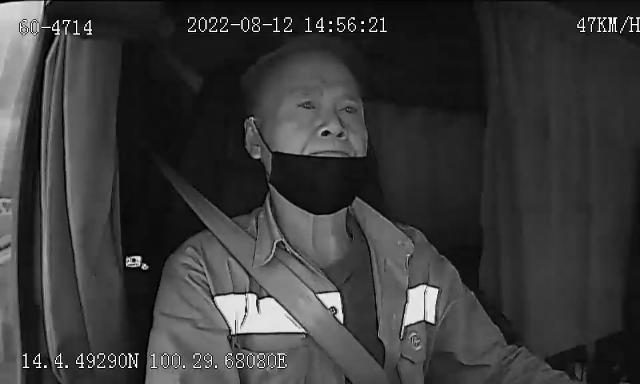SafeDriving: (290, 92, 323, 118), (332, 95, 364, 120)
Seatbelt: (168, 170, 386, 384)
